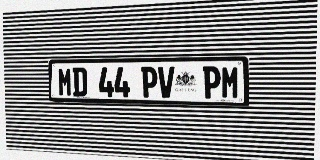4: (114, 67, 130, 97), (99, 67, 114, 97)
D: (72, 67, 87, 97)
M: (221, 66, 240, 99), (58, 67, 72, 96)
P: (203, 66, 221, 99), (141, 67, 157, 98)
V: (158, 66, 174, 98)
